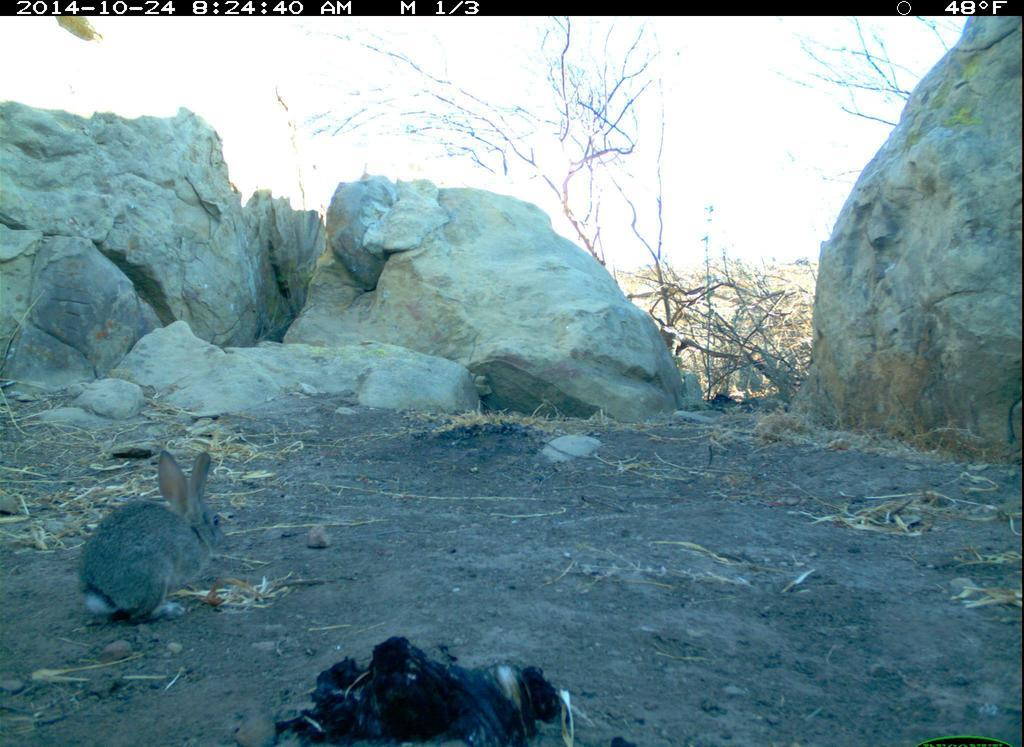rabbit: (58, 440, 235, 644)
